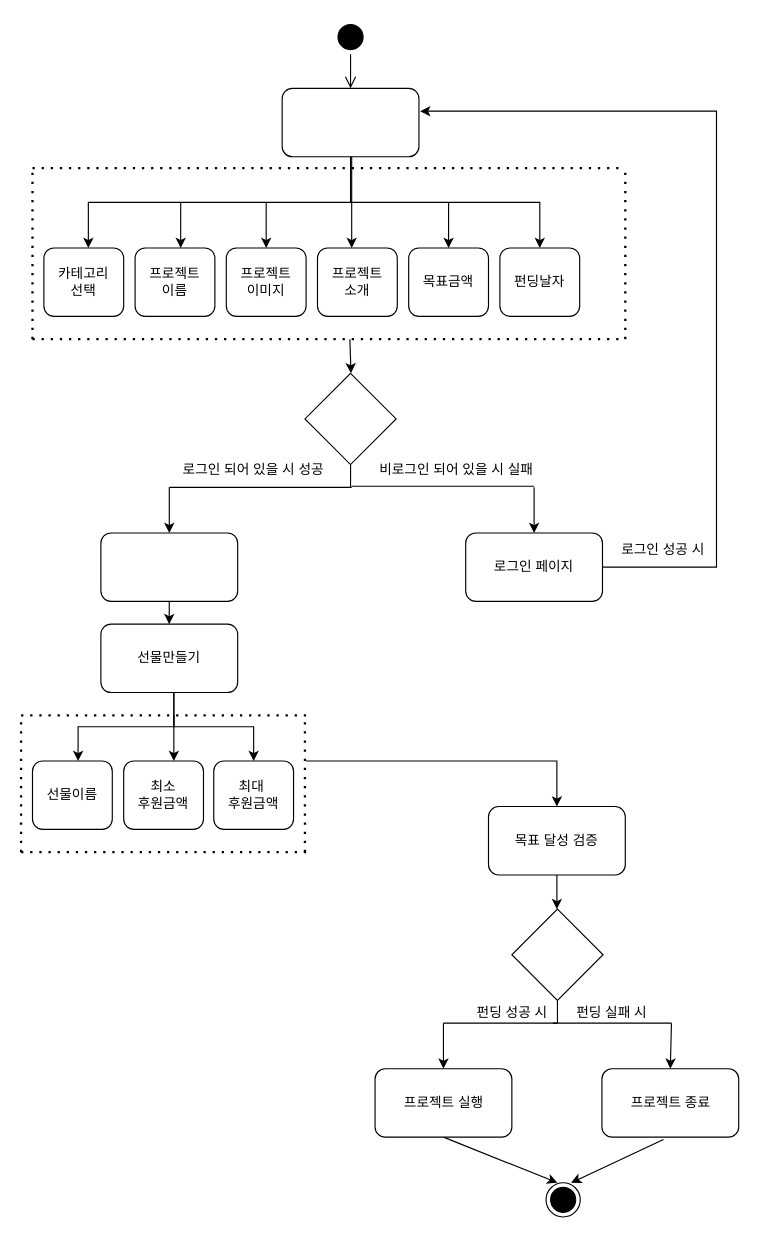
This 758x1237 diagram has some shape labels left out. The shapes that lost their labels are listed below. From the top down, each one's centre as x and y in pixels, then its label:
At (350,122): "프로젝트 올리기".
At (169,566): "제출".
